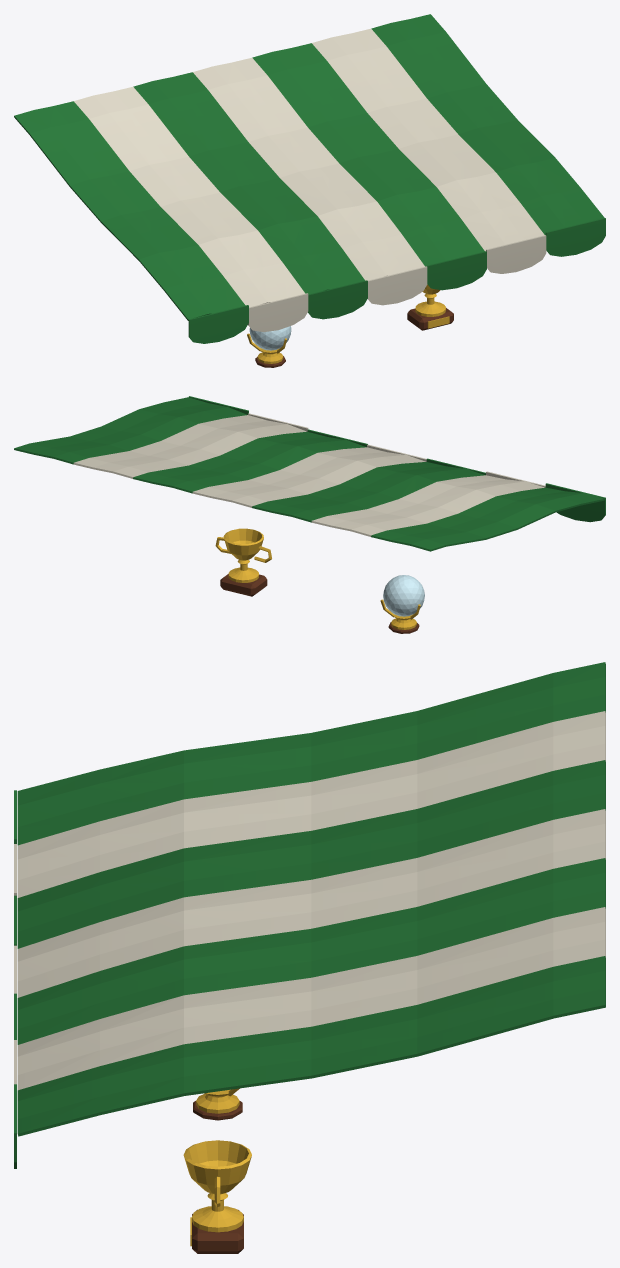
Rendered from trophy_stall.fbx.
The picture shows the model from 3 angles, top to bottom: view 1: azimuth 30°, elevation 25°; view 2: azimuth 150°, elevation 25°; view 3: azimuth 270°, elevation 25°; orthographic projection. The views are drawn at different scales.
Parts seen in each view (by area): view 1: trophy_stall_AwningGreen, trophy_stall_AwningCream, trophy_stall_Gold, trophy_stall_Ball_Glass, trophy_stall_Wood; view 2: trophy_stall_AwningGreen, trophy_stall_AwningCream, trophy_stall_Gold, trophy_stall_Ball_Glass, trophy_stall_Wood; view 3: trophy_stall_AwningGreen, trophy_stall_AwningCream, trophy_stall_Gold, trophy_stall_Wood.
Part boxes in pixels (x1,y1,x2,y2): trophy_stall_AwningGreen: (14,14,605,343); trophy_stall_AwningCream: (74,28,546,332); trophy_stall_Gold: (247,284,449,363); trophy_stall_Ball_Glass: (249,326,291,350); trophy_stall_Wood: (255,308,453,367); trophy_stall_AwningGreen: (14,396,605,551); trophy_stall_AwningCream: (73,413,545,536); trophy_stall_Gold: (215,528,420,629); trophy_stall_Ball_Glass: (383,575,424,616); trophy_stall_Wood: (220,574,419,633); trophy_stall_AwningGreen: (14,662,605,1168); trophy_stall_AwningCream: (14,711,605,1090); trophy_stall_Gold: (183,1088,251,1246); trophy_stall_Wood: (192,1101,243,1253).
Bounding box in the file's own units: 15.6 × 7.07 × 11.38.
